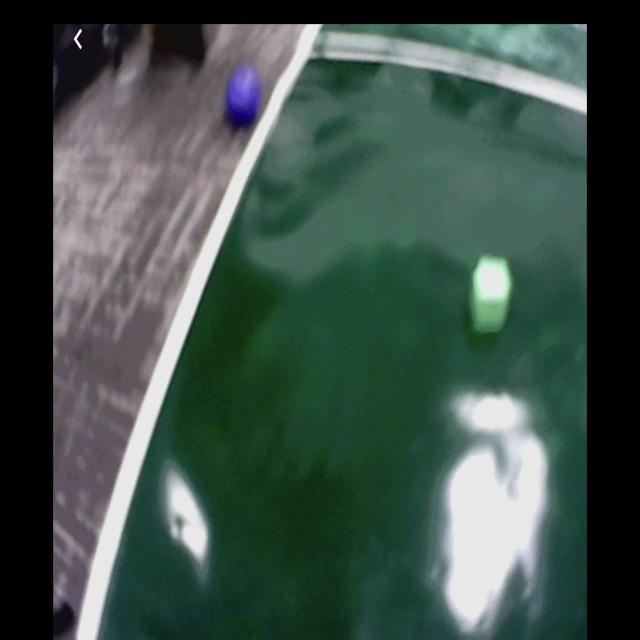ball: (224, 64, 260, 124)
